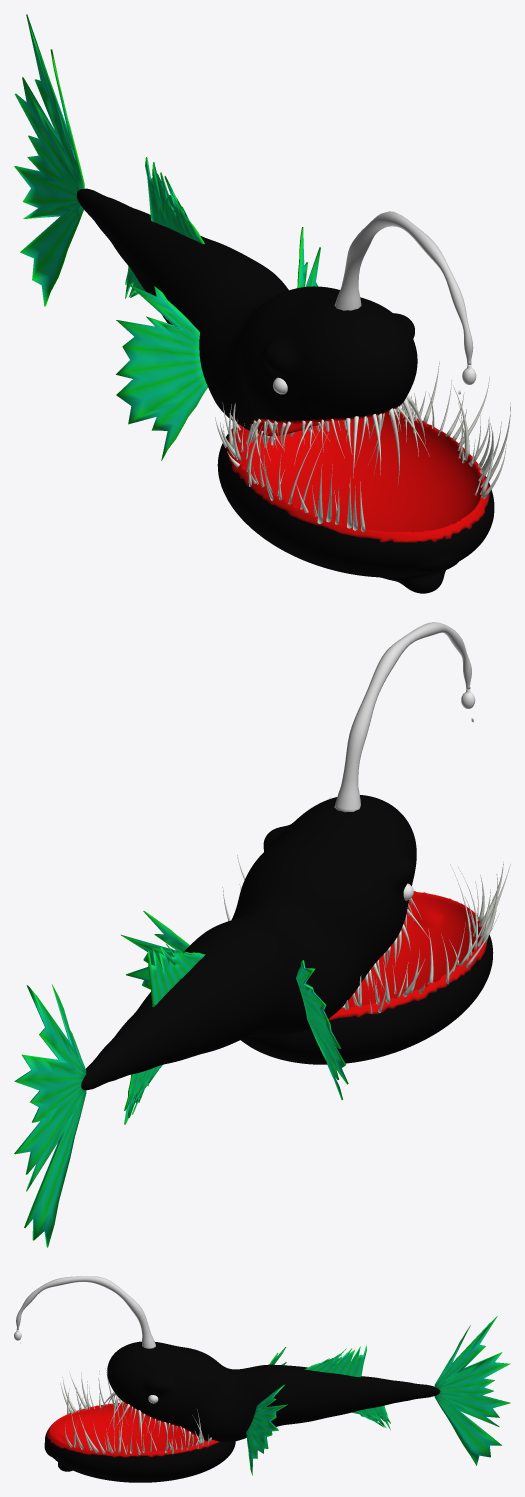
The model's file is Farolero.fbx.
3 views of the same model, one above another, from view 1: azimuth 30°, elevation 25°; view 2: azimuth 150°, elevation 25°; view 3: azimuth 270°, elevation 25° (orthographic). The views are drawn at different scales.
Visible parts, largest first — view 1: Body, Jaw, Tail, PecR, TeethLower, Stalk, TeethUpper, Dorsal, PecL; view 2: Body, Jaw, Tail, Stalk, TeethLower, PecR, Dorsal, PecL, Anal, TeethUpper; view 3: Body, Jaw, Tail, TeethLower, Stalk, PecL, Dorsal, TeethUpper, Anal.
Boxes of the visible parts, left/top/right/bottom form: Body: left=77, top=188, right=417, bottom=436; Jaw: left=217, top=411, right=494, bottom=593; Tail: left=14, top=14, right=84, bottom=306; PecR: left=116, top=283, right=207, bottom=460; TeethLower: left=215, top=361, right=510, bottom=532; Stalk: left=334, top=211, right=473, bottom=364; TeethUpper: left=246, top=394, right=429, bottom=486; Dorsal: left=145, top=157, right=204, bottom=244; PecL: left=297, top=227, right=320, bottom=287; Body: left=81, top=795, right=416, bottom=1090; Jaw: left=241, top=891, right=493, bottom=1064; Tail: left=14, top=984, right=86, bottom=1247; Stalk: left=334, top=622, right=471, bottom=812; TeethLower: left=222, top=797, right=510, bottom=1013; PecR: left=296, top=960, right=348, bottom=1099; Dorsal: left=148, top=944, right=205, bottom=1007; PecL: left=121, top=911, right=189, bottom=989; Anal: left=124, top=1065, right=162, bottom=1124; TeethUpper: left=342, top=898, right=431, bottom=1007; Body: left=107, top=1341, right=440, bottom=1442; Jaw: left=44, top=1402, right=235, bottom=1482; Tail: left=434, top=1316, right=510, bottom=1465; TeethLower: left=60, top=1368, right=211, bottom=1454; Stalk: left=16, top=1276, right=155, bottom=1348; PecL: left=246, top=1384, right=287, bottom=1475; Dorsal: left=304, top=1345, right=366, bottom=1377; TeethUpper: left=99, top=1392, right=204, bottom=1447; Anal: left=352, top=1406, right=390, bottom=1430.
Bounding box in the file's own units: 3.42 × 4.84 × 11.16.
